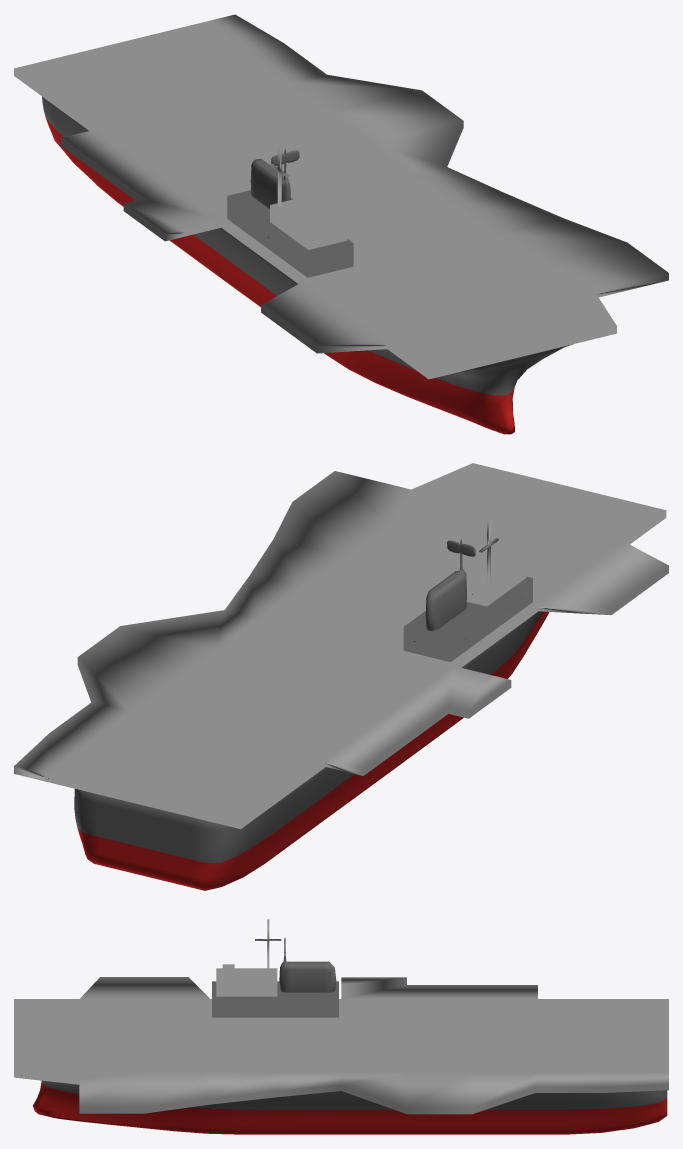
File: Aircraft Carrier.obj
The picture shows the model from 3 angles, top to bottom: view 1: azimuth 30°, elevation 25°; view 2: azimuth 150°, elevation 25°; view 3: azimuth 270°, elevation 25°; orthographic projection. The views are drawn at different scales.
Parts seen in each view (by area): view 1: Box02, Box01, Box03, Box04, Box05; view 2: Box02, Box01, Box03, Box04, Box05; view 3: Box02, Box01, Box03, Box04, Box05.
Boxes of the visible parts, x1=… form: Box02: x1=14, y1=14, x2=668, y2=379; Box01: x1=42, y1=96, x2=572, y2=434; Box03: x1=227, y1=190, x2=353, y2=277; Box04: x1=270, y1=144, x2=347, y2=249; Box05: x1=250, y1=149, x2=299, y2=208; Box02: x1=14, y1=463, x2=668, y2=829; Box01: x1=74, y1=611, x2=549, y2=890; Box03: x1=403, y1=576, x2=532, y2=662; Box04: x1=463, y1=518, x2=526, y2=606; Box05: x1=425, y1=539, x2=475, y2=630; Box02: x1=14, y1=977, x2=668, y2=1114; Box01: x1=33, y1=1080, x2=667, y2=1134; Box03: x1=212, y1=981, x2=338, y2=1017; Box04: x1=216, y1=919, x2=281, y2=996; Box05: x1=279, y1=937, x2=336, y2=992.
Bounding box in the file's own units: 258 × 147 × 543.
